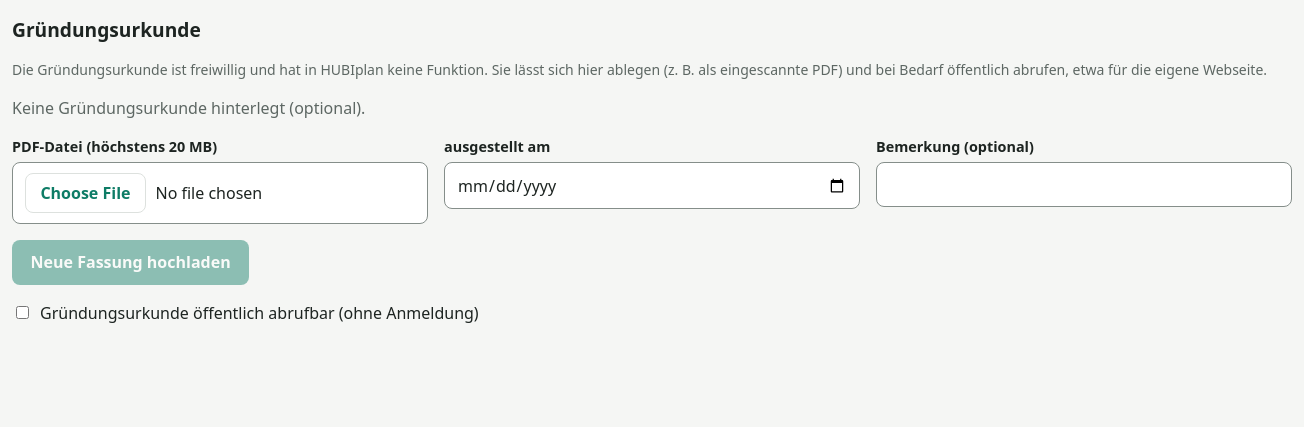
Test: Satzung › Gründungsurkunde: eigene Abfrage, eigene Texte, Art beim Freischalten
Check: the text "Keine Gründungsurkunde hinterlegt (optional)." is shown, box 12,97 -> 365,119
Check: the heading "Gründungsurkunde" is shown, box 12,16 -> 201,43
What coordinates should you click on to do the following:
click the checkbox labelled "Gründungsurkunde öffentlich abrufbar (ohne Anmeldung)"
I would click on:
 (22, 312)
Its box is 16,306 -> 29,319.
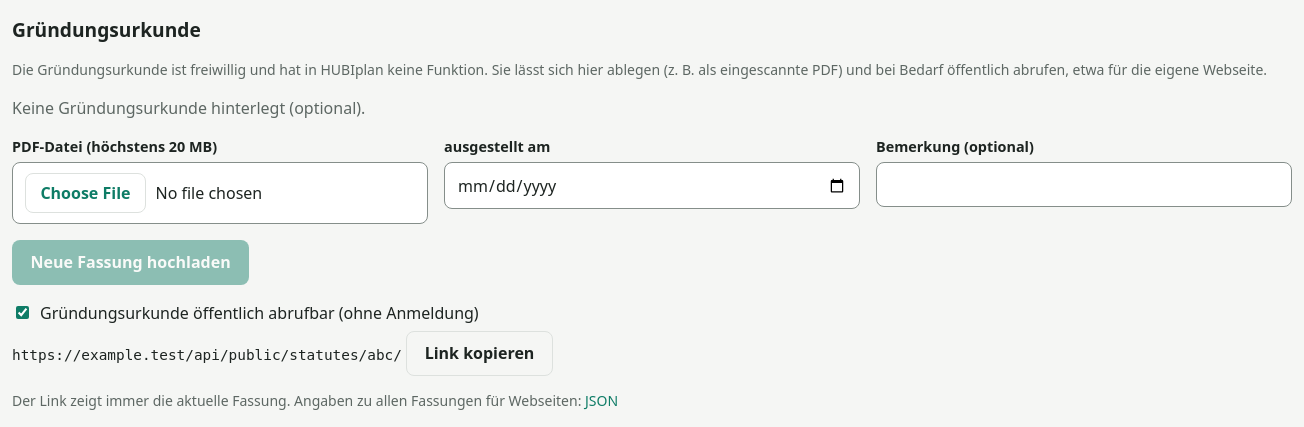
Check: the text "https://example.test/api/public/statutes/abc/" is shown, box 12,346 -> 402,362
